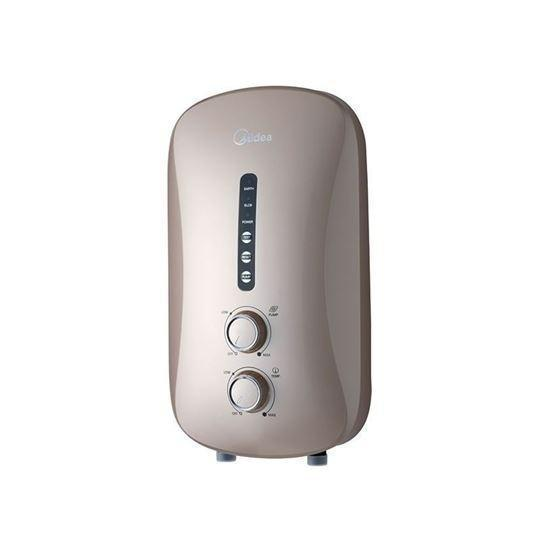Ducha: (141, 69, 395, 470)
